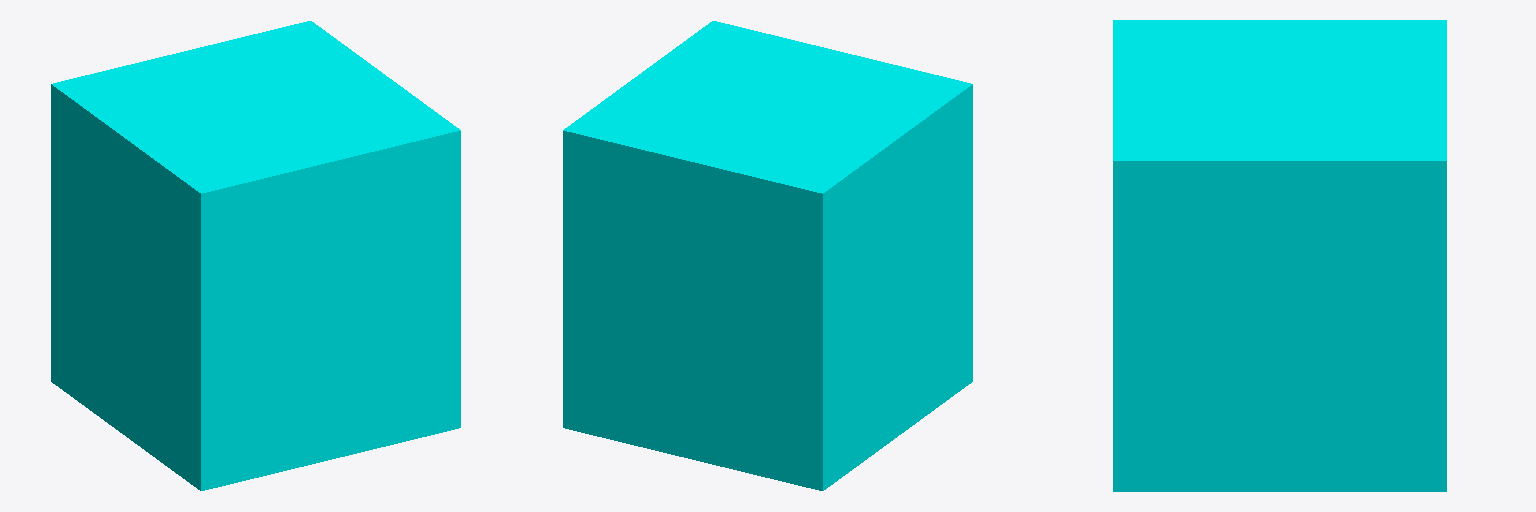
URDF robot description (robot_rectangle):
<robot name="robot_rectangle">
    <!-- Robot rectangulaire 0.32 m x 0.32 m x 0.1 m -->
    <link name="base">
        <visual>
            <origin xyz="0 0 0.35" rpy="0 0 0"/>  <!-- Hauteur de 0.1 m (20 cm de hauteur totale) -->
            <geometry>
                <box size="0.32 0.32 0.35"/>  <!-- Dimensions 0.32 m x 0.32 m x 0.1 m -->
            </geometry>
            <material name="blue">
                <color rgba="0 1 1 1"/>  <!-- Couleur cyan pour le robot -->
            </material>
        </visual>
        <collision>
            <origin xyz="0 0 0.35" rpy="0 0 0"/>
            <geometry>
                <box size="0.32 0.32 0.35"/>
            </geometry>
        </collision>
    </link>
</robot>

--- Render facts (derived) ---
The picture shows the robot from 3 angles, left to right: view 1: azimuth 30°, elevation 25°; view 2: azimuth 150°, elevation 25°; view 3: azimuth 270°, elevation 25°; orthographic projection.
Robot: robot_rectangle — 1 links, 0 joints (none); root link base; default pose: all joints at 0.
Links seen in each view (by area): view 1: base; view 2: base; view 3: base.
Link boxes in pixels (x1,y1,x2,y2): base: [51, 21, 460, 490]; base: [563, 21, 972, 490]; base: [1113, 20, 1446, 491].
Size in the robot's own frame: 0.32 by 0.32 by 0.35 metres.
Geometry: primitives only (box / cylinder / sphere), no mesh files.